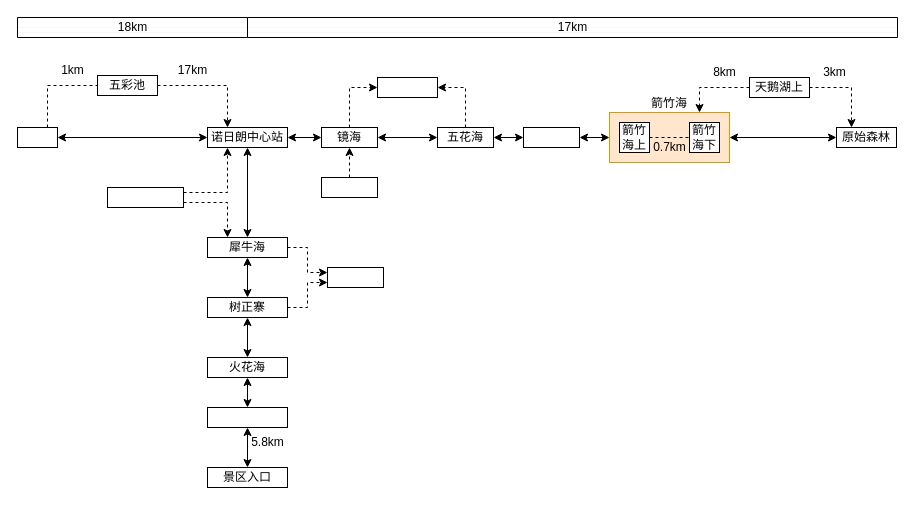
Image size: 915x505. Some labels were removed from this diagram. The box of each missing label's shape, as (x1, y1, x2, y2) in pixels:
熊猫海: (522, 126, 580, 148)
珍珠滩下: (376, 76, 438, 98)
盆景海: (206, 406, 288, 428)
老虎海下: (326, 266, 384, 288)
诺日朗瀑布上: (106, 186, 184, 208)
镜海上: (320, 176, 378, 198)
长海: (16, 126, 58, 148)
